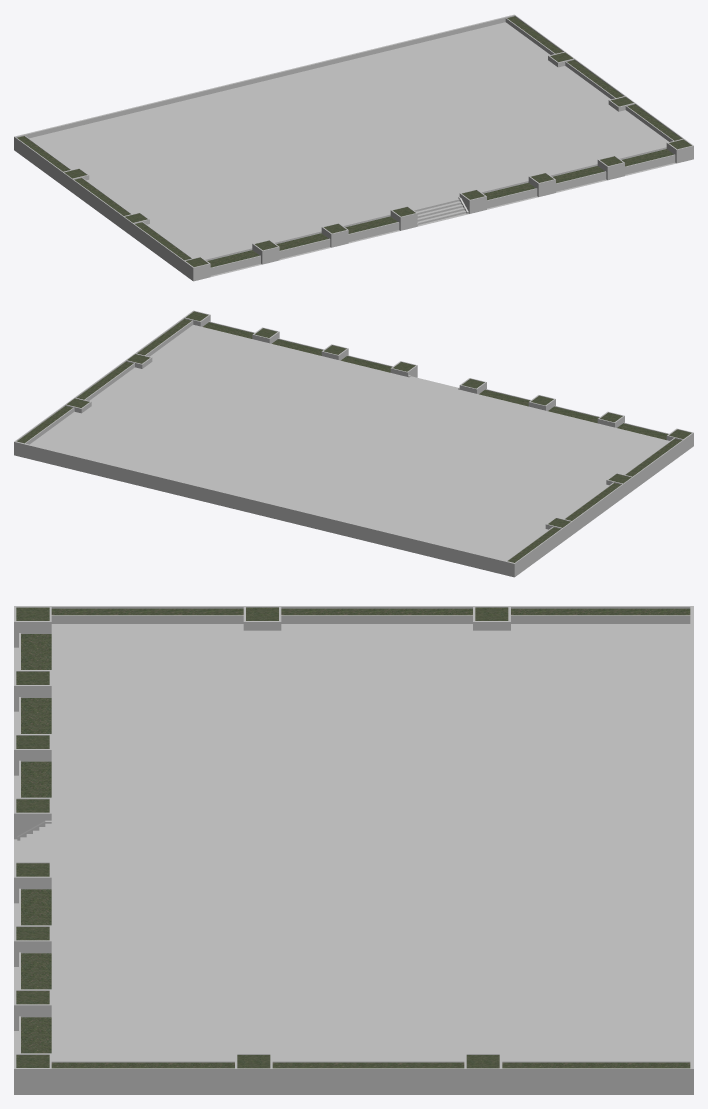
The picture shows the model from 3 angles, top to bottom: view 1: azimuth 30°, elevation 25°; view 2: azimuth 150°, elevation 25°; view 3: azimuth 270°, elevation 25°; orthographic projection. The views are drawn at different scales.
Visible parts, largest first — view 1: Base-11; view 2: Base-11; view 3: Base-11.
Boxes of the visible parts, x1=… form: Base-11: x1=14, y1=14, x2=693, y2=281; Base-11: x1=14, y1=310, x2=693, y2=577; Base-11: x1=14, y1=606, x2=693, y2=1094.
Size of what is drawn, in the model's own units: 58 by 1.5 by 36.
